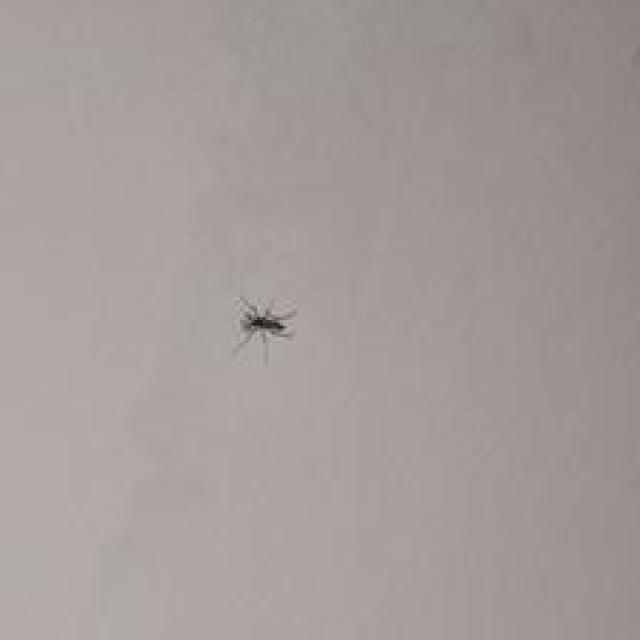Culex: (230, 294, 299, 363)
